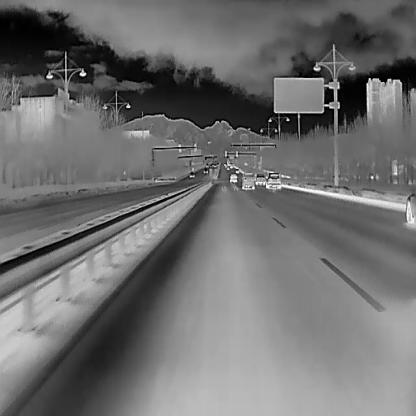car: (264, 172, 280, 190), (254, 172, 266, 186), (189, 171, 194, 177), (203, 167, 207, 173), (226, 165, 230, 170), (229, 162, 233, 167), (235, 168, 239, 172), (205, 162, 208, 166), (209, 162, 212, 166), (214, 162, 217, 166), (223, 162, 226, 166)
truck: (241, 172, 254, 190), (228, 173, 237, 183)
